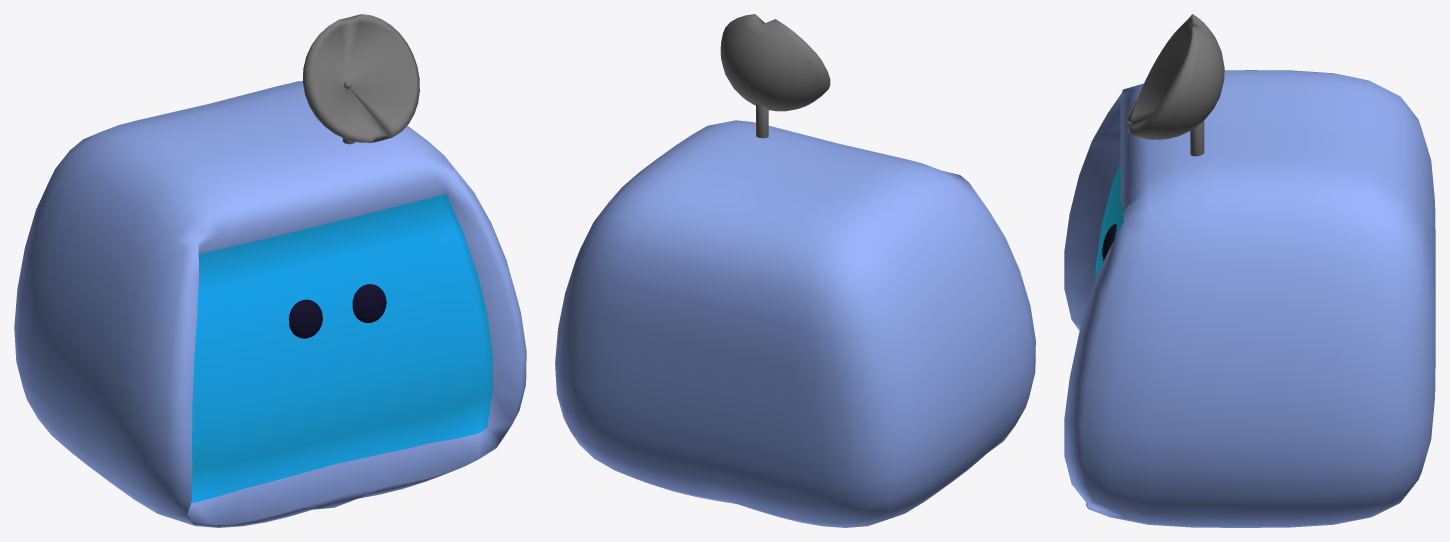
The model's file is HEAD 2 Animasi.fbx.
3 renders of one model, left to right at view 1: azimuth 30°, elevation 25°; view 2: azimuth 150°, elevation 25°; view 3: azimuth 270°, elevation 25°, orthographic. The views are drawn at different scales.
Visible parts, largest first — view 1: Cube, Sphere.002, Sphere.001; view 2: Cube, Sphere.002; view 3: Cube, Sphere.002, Cylinder.002.
Part boxes in pixels (x1,y1,x2,y2): Cube: (14, 81, 526, 527); Sphere.002: (302, 14, 419, 142); Sphere.001: (288, 284, 386, 338); Cube: (555, 120, 1035, 527); Sphere.002: (720, 14, 830, 111); Cube: (1064, 70, 1435, 527); Sphere.002: (1125, 14, 1224, 139); Cylinder.002: (1190, 120, 1204, 156).
Size of the model in its own units: 303 by 336 by 235.
